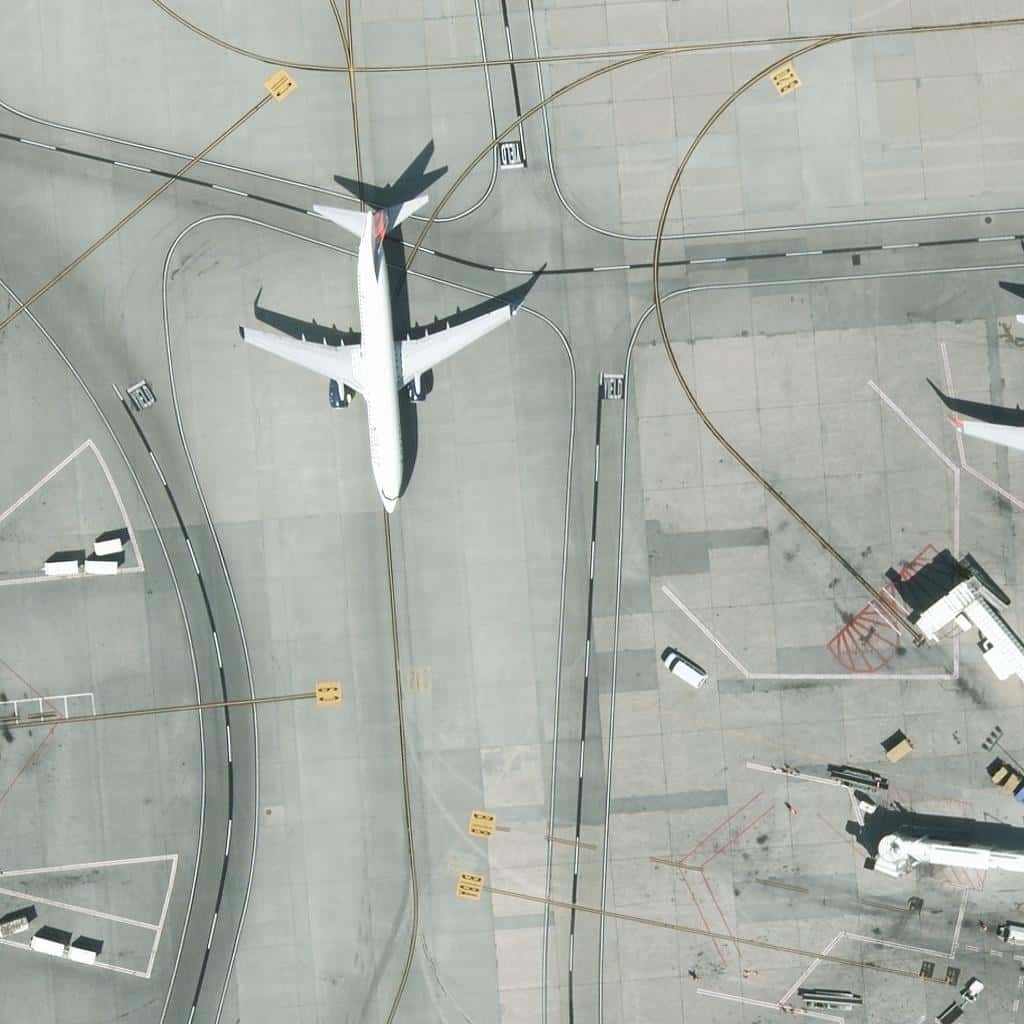plane: (238, 197, 515, 515)
